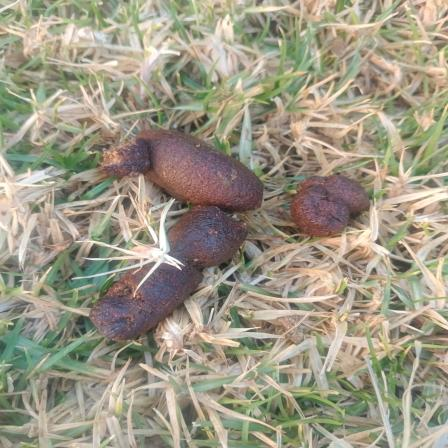dog-poop: (83, 113, 267, 362), (280, 164, 374, 244)
